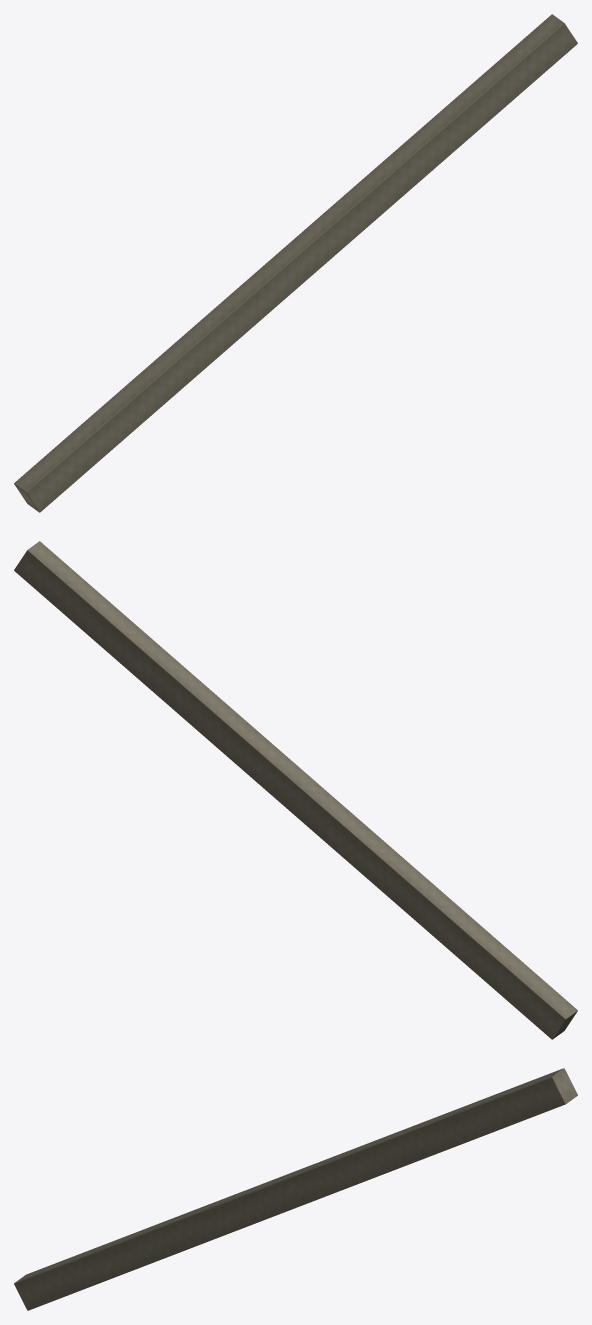
The model's file is MRP_Brace_2x1p2m.fbx.
3 renders of one model, top to bottom at view 1: azimuth 30°, elevation 25°; view 2: azimuth 150°, elevation 25°; view 3: azimuth 330°, elevation 25°, orthographic.
Visible parts, largest first — view 1: Body; view 2: Body; view 3: Body.
Part boxes in pixels (x1,y1,x2,y2): Body: [14, 14, 577, 512]; Body: [14, 541, 577, 1039]; Body: [14, 1068, 577, 1310].
Size of the model in its own units: 2.05 by 1.28 by 0.08.
